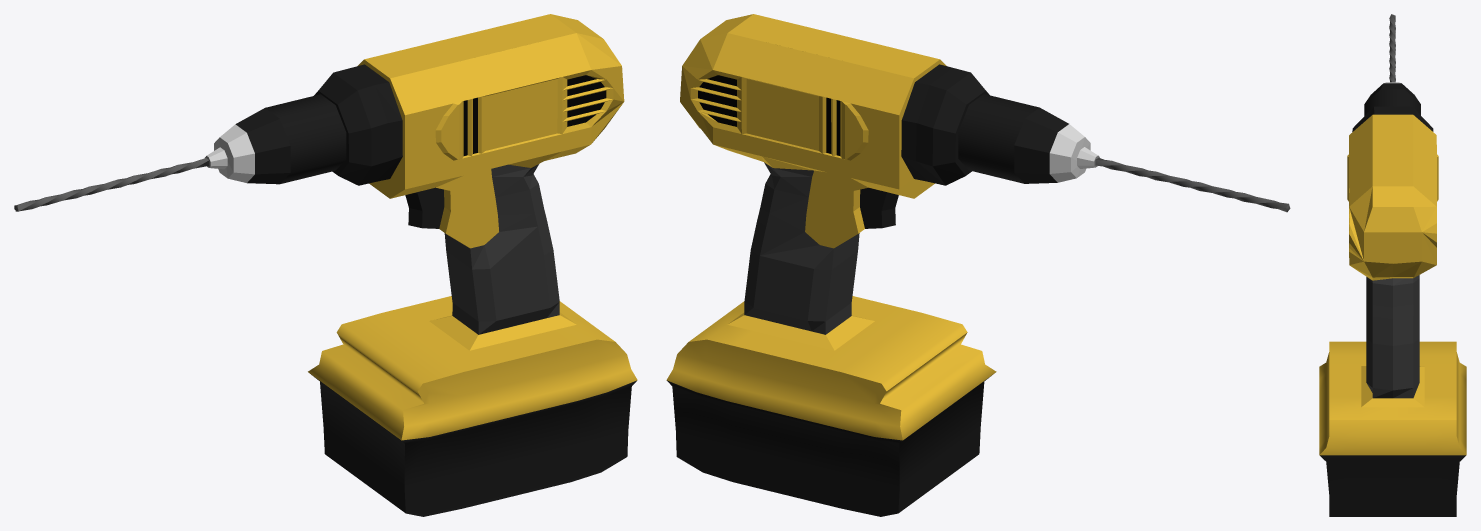
File: drillMEsh.fbx
3 views of the same model, side by side, from view 1: azimuth 30°, elevation 25°; view 2: azimuth 150°, elevation 25°; view 3: azimuth 270°, elevation 25° (orthographic). The views are drawn at different scales.
Visible parts, largest first — view 1: Box01, drill; view 2: Box01, drill; view 3: Box01, drill.
Boxes of the visible parts, x1,y1,x2,y2 form: Box01: (205,14,637,516); drill: (14,158,209,211); Box01: (666,14,1099,516); drill: (1095,157,1290,212); Box01: (1319,82,1466,516); drill: (1389,14,1395,82).
Size of the model in its own units: 10.56 by 7.18 by 2.9.
